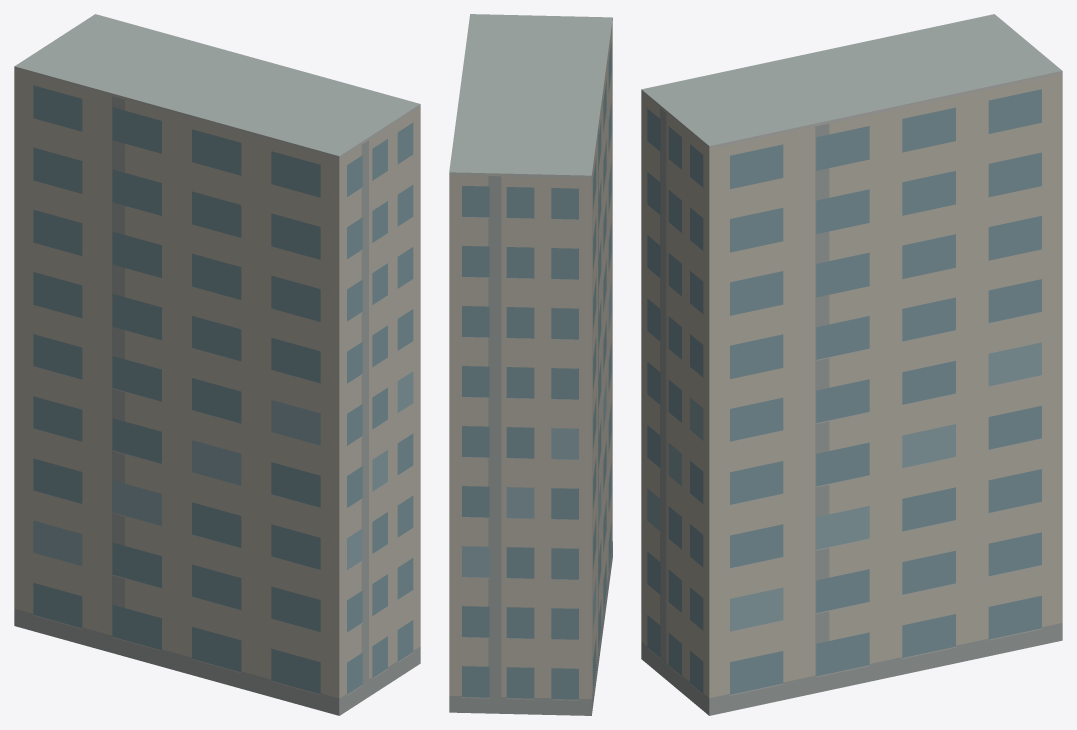
The model's file is residential-0eecde6e-7091-4166-9419-86fd7eedde65.glb.
3 views of the same model, side by side, from view 1: azimuth 30°, elevation 25°; view 2: azimuth 150°, elevation 25°; view 3: azimuth 270°, elevation 25° (orthographic). The views are drawn at different scales.
Parts seen in each view (by area): view 1: residential-0eecde6e-7091-4166-9419-86fd7eedde65.tmp; view 2: residential-0eecde6e-7091-4166-9419-86fd7eedde65.tmp; view 3: residential-0eecde6e-7091-4166-9419-86fd7eedde65.tmp.
Boxes of the visible parts, x1=… form: residential-0eecde6e-7091-4166-9419-86fd7eedde65.tmp: x1=14, y1=14, x2=420, y2=715; residential-0eecde6e-7091-4166-9419-86fd7eedde65.tmp: x1=449, y1=14, x2=612, y2=715; residential-0eecde6e-7091-4166-9419-86fd7eedde65.tmp: x1=641, y1=14, x2=1062, y2=715.
Bounding box in the file's own units: 23.89 × 48 × 32.16.
